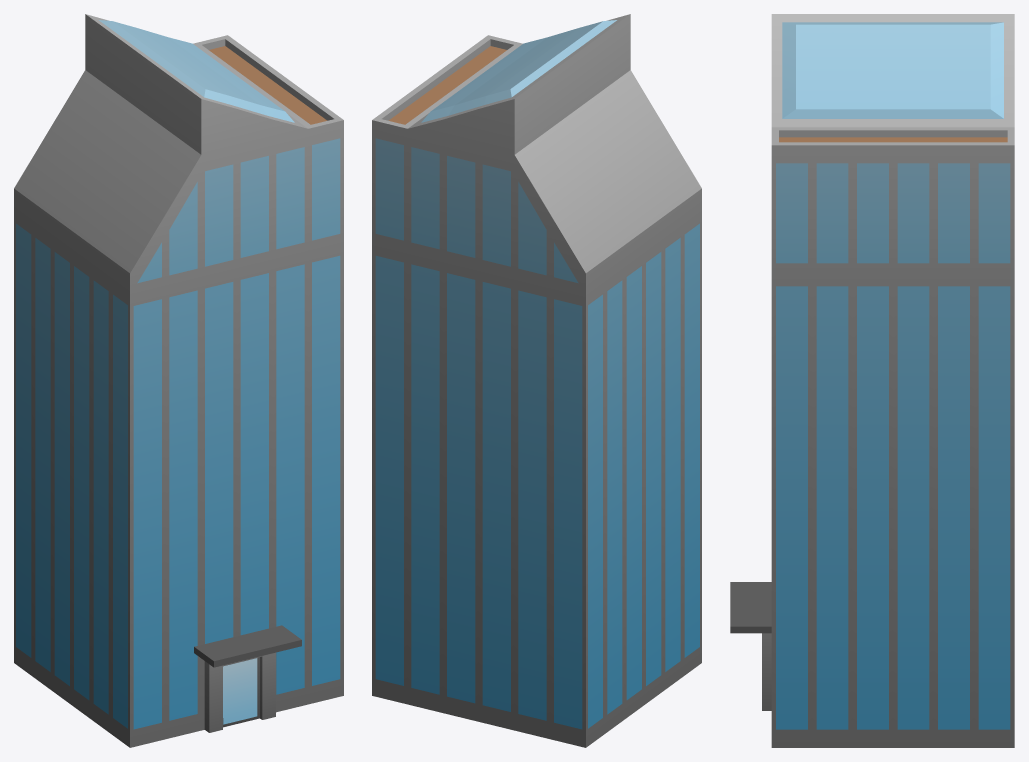
File: building 3.fbx
The picture shows the model from 3 angles, left to right: view 1: azimuth 30°, elevation 25°; view 2: azimuth 150°, elevation 25°; view 3: azimuth 270°, elevation 25°; orthographic projection. The views are drawn at different scales.
Visible parts, largest first — view 1: building 3; view 2: building 3; view 3: building 3.
Boxes of the visible parts, left/top/right/bottom form: building 3: left=14, top=14, right=343, bottom=747; building 3: left=372, top=14, right=701, bottom=747; building 3: left=730, top=14, right=1014, bottom=747.
Bounding box in the file's own units: 883 × 2492 × 972.
